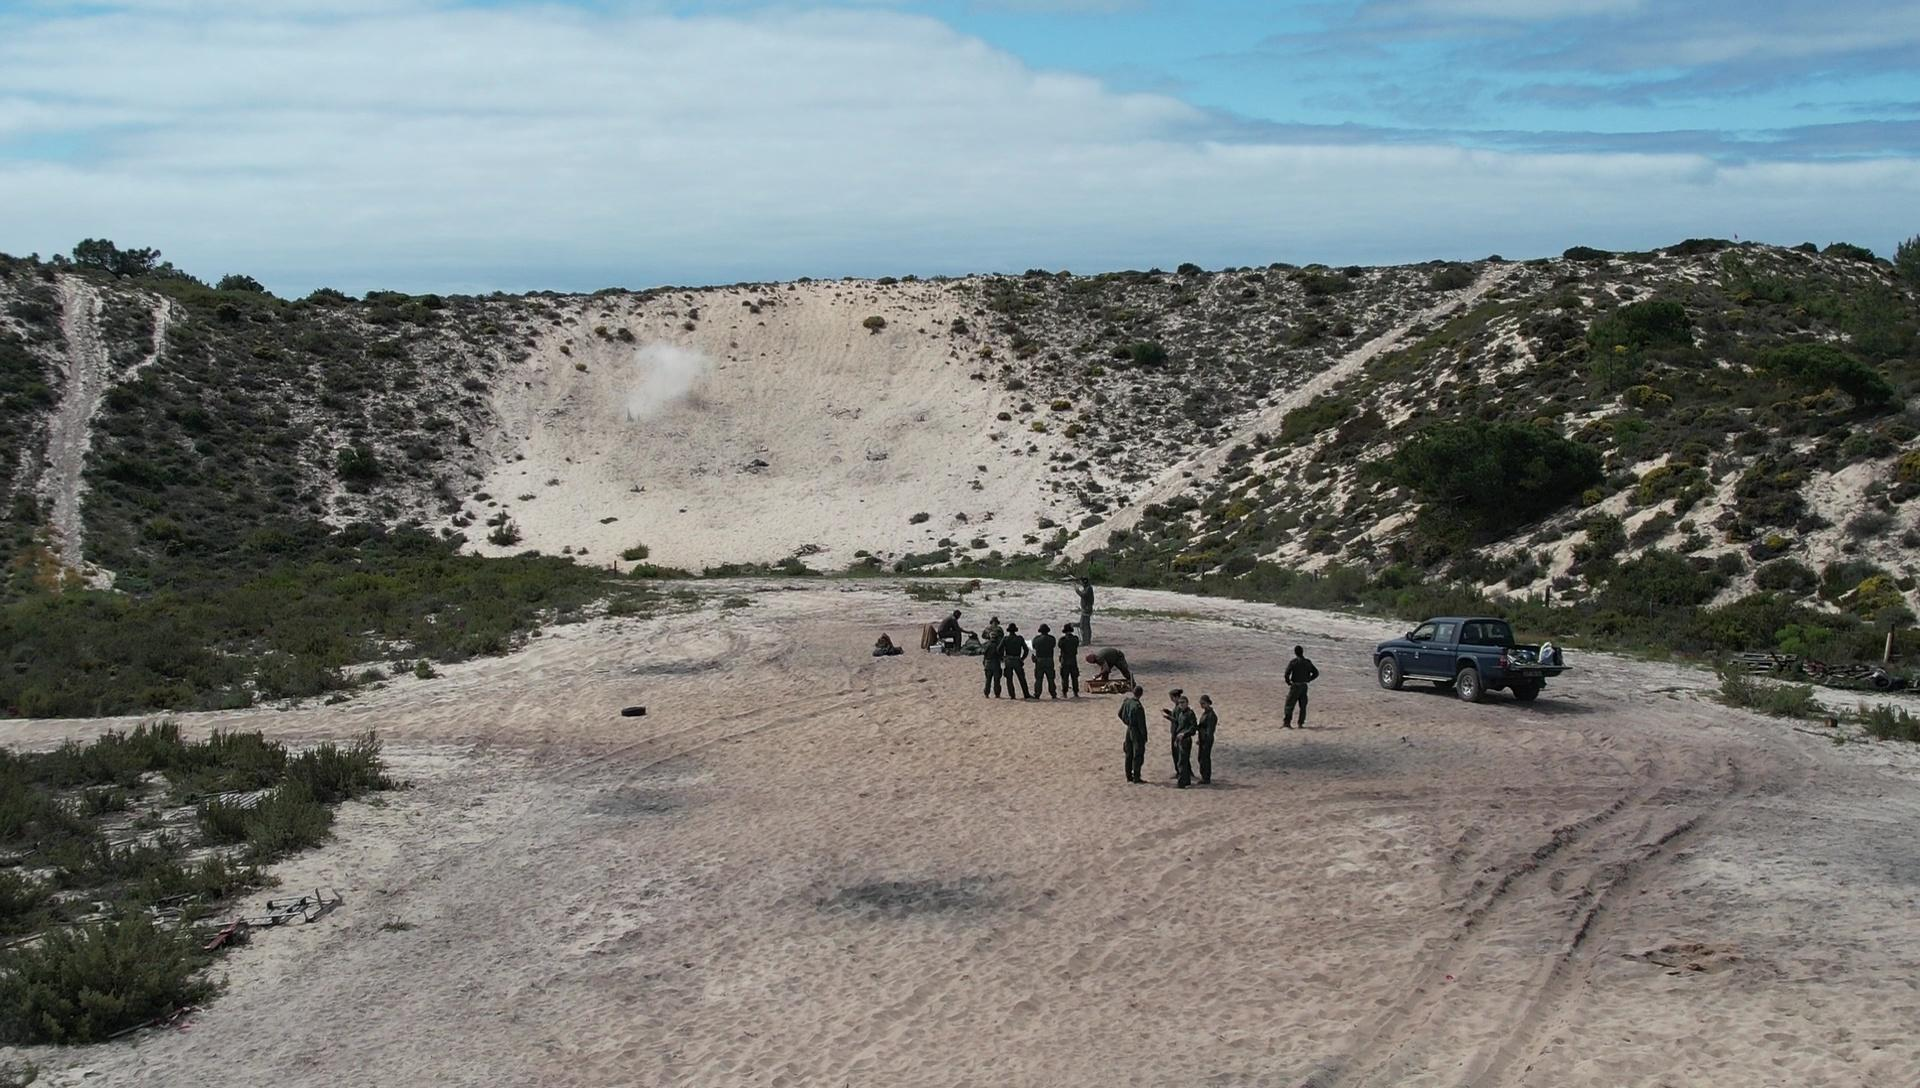Soldier: (1116, 677, 1156, 793), (1278, 630, 1324, 729), (1187, 691, 1222, 793), (1029, 616, 1064, 706), (986, 619, 1022, 706), (932, 589, 975, 658), (1170, 690, 1197, 790), (1001, 615, 1030, 708), (1058, 619, 1083, 708), (1076, 564, 1101, 644)
